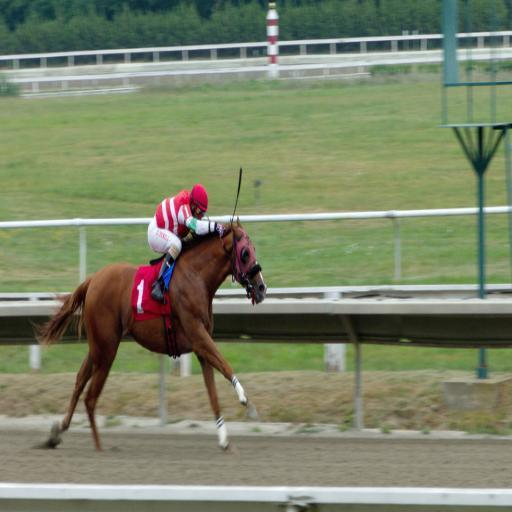horse: (26, 215, 270, 456)
